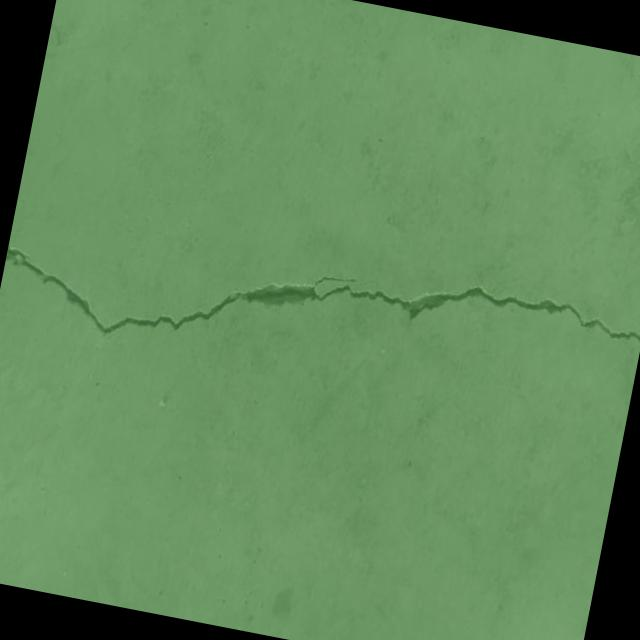crack: (0, 195, 640, 434)
